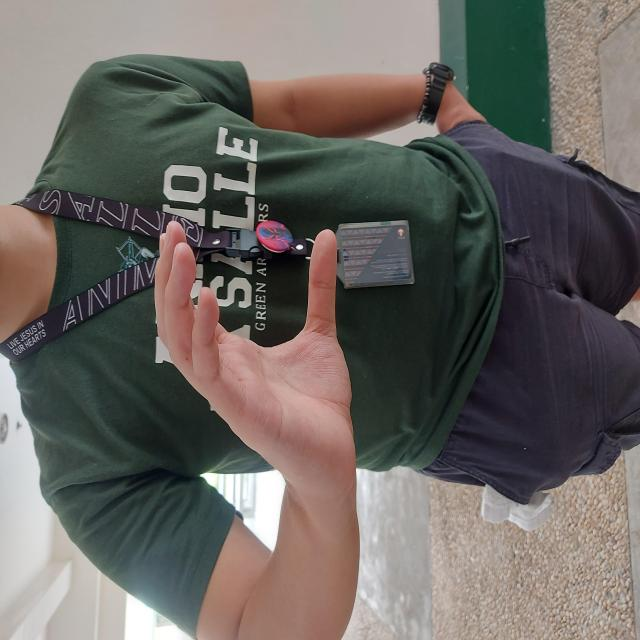C: (154, 152, 414, 360)
